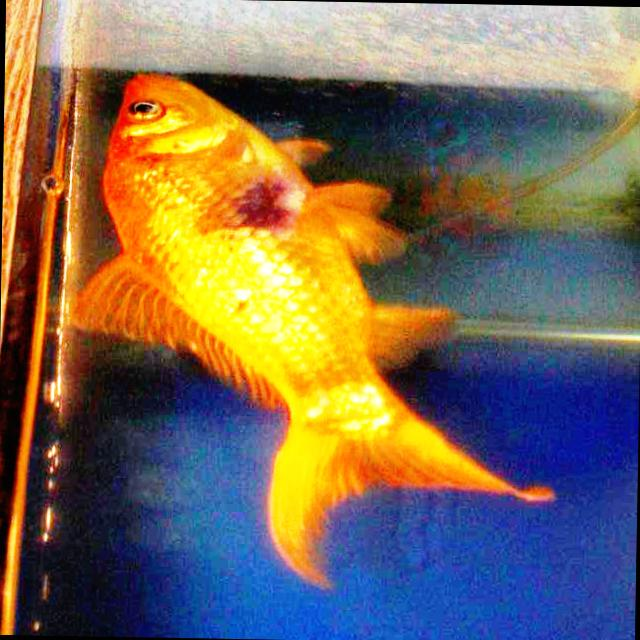Columnaris Disease: (70, 74, 552, 582)
